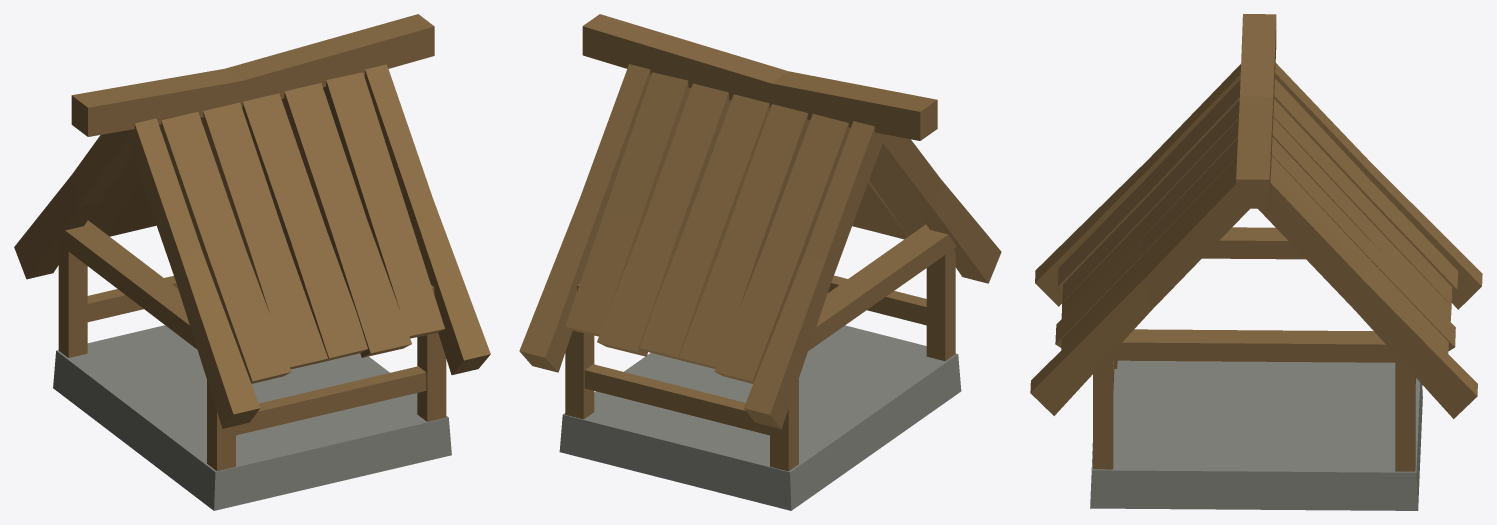
Rendered from houses_firstage_1_level1_lev1.glb.
3 views of the same model, side by side, from view 1: azimuth 30°, elevation 25°; view 2: azimuth 150°, elevation 25°; view 3: azimuth 270°, elevation 25° (orthographic).
Visible parts, largest first — view 1: houses_firstage_1_level1_lev1; view 2: houses_firstage_1_level1_lev1; view 3: houses_firstage_1_level1_lev1.
Part boxes in pixels (<box>): houses_firstage_1_level1_lev1: <box>14,14,490,510</box>; houses_firstage_1_level1_lev1: <box>519,14,1001,510</box>; houses_firstage_1_level1_lev1: <box>1030,14,1482,510</box>.
Bounding box in the file's own units: 3.37 × 3.38 × 3.89.
